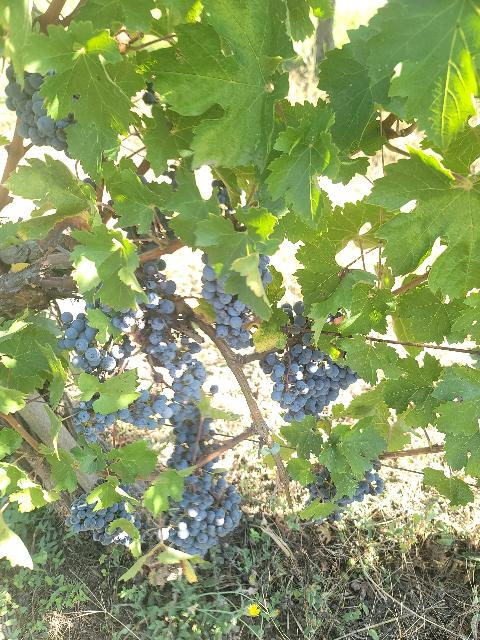grapes: (259, 342, 360, 422), (169, 456, 241, 555), (168, 472, 241, 556), (145, 314, 206, 402), (65, 495, 134, 544), (168, 405, 200, 470), (219, 295, 254, 349)
